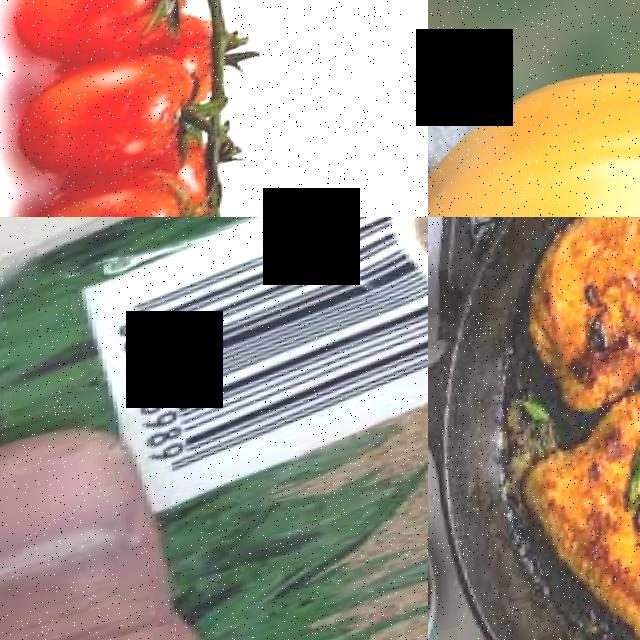tomato: (428, 17, 640, 217), (9, 40, 220, 202), (0, 0, 210, 87), (15, 160, 217, 217)
